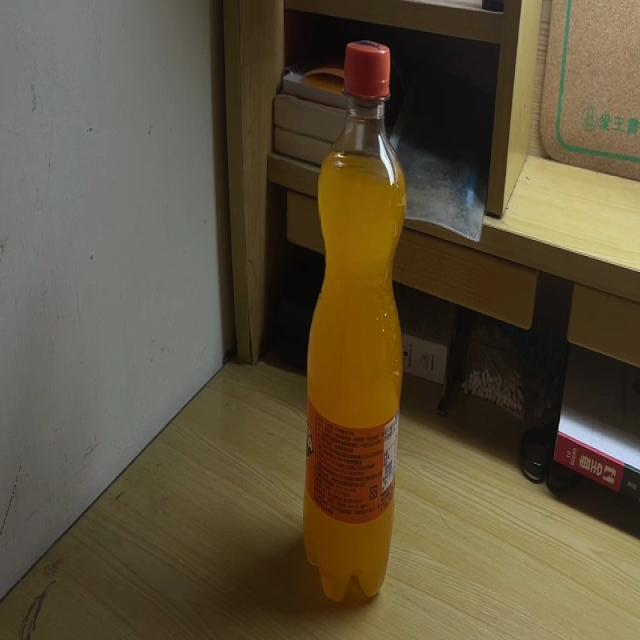Fanta: (302, 36, 403, 607)
